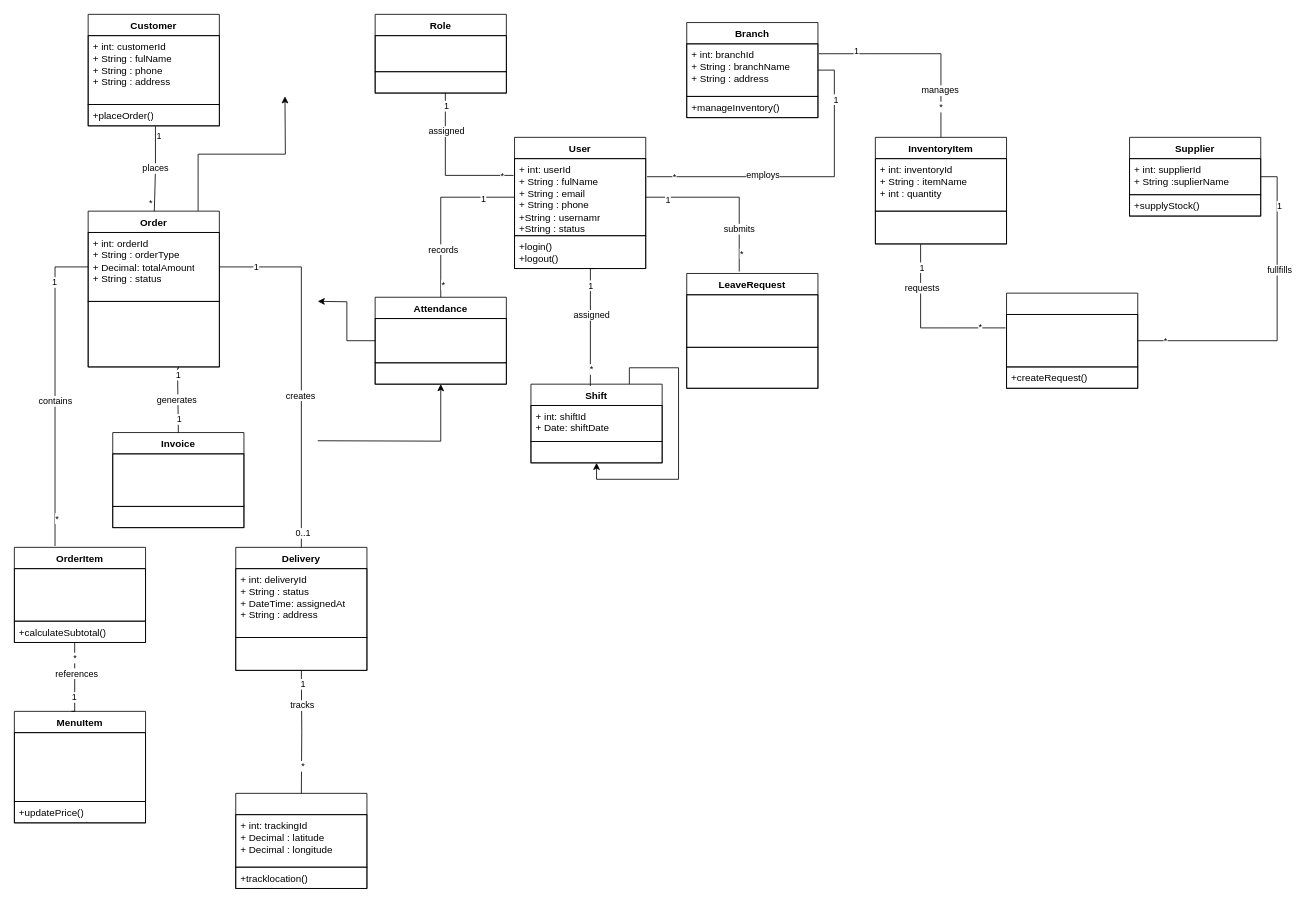
Image size: 1305x905. Some labels were removed from this diagram. The shapes that lost their labels are listed below. From the top down, each one's box as (x1, y1, x2, y2) in pixels, then its label:
(374, 35, 506, 72): + int: roleId + String : roleName
(875, 210, 1007, 244): +updateStock() +checkLowStock()
(87, 301, 219, 367): +create() +update() +cancel() +calculaterTotal()
(374, 318, 506, 363): + int: attendanceId + DateTime: clockIn + DateTime : clockOut
(686, 294, 818, 347): + int: leaveId + String : reason + String : status
(1006, 292, 1138, 388): StockRequest
(1006, 314, 1138, 367): + int: requestId + int: quantity + String : status
(374, 362, 506, 384): +recordAttendance()
(686, 346, 818, 388): +submit() +approve() +reject()
(530, 441, 662, 463): +assignShift()
(112, 453, 244, 506): + int: invoiceId + String : invoiceNumber + Decimal :totalAmount
(112, 506, 244, 528): +generateInvoice()
(14, 568, 146, 621): + int: orderItemId + int: quantity + Decimal:unitPrice
(235, 637, 367, 670): +assignRider() +updateStatus()
(14, 732, 146, 802): + int: itemId + String : itemName + Decimal:price + boolean:availability
(235, 793, 367, 888): DeliveryTracking
